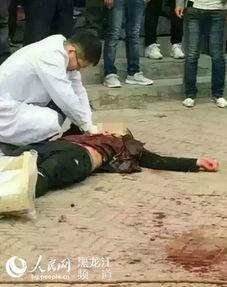Fall-Detected: (2, 117, 219, 204)
